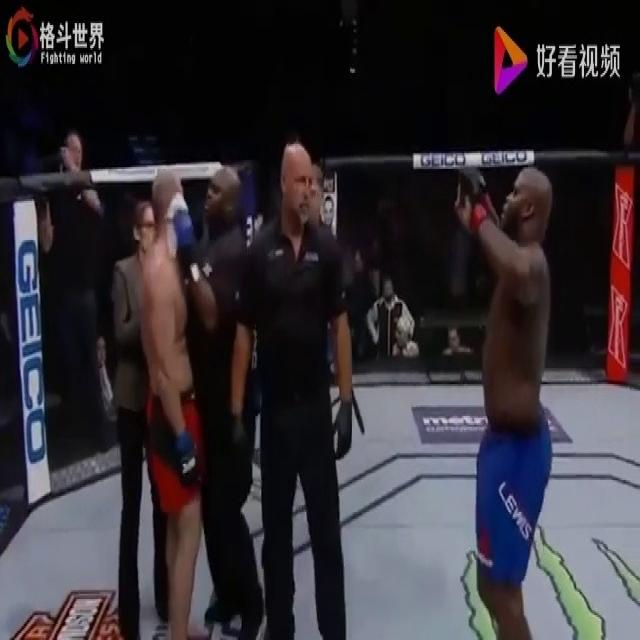non-fight: (230, 132, 359, 638), (447, 139, 559, 640), (168, 156, 266, 640)
